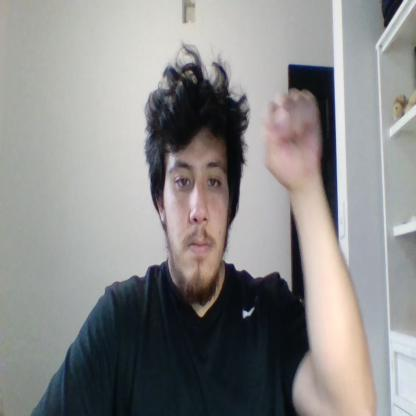S: (263, 89, 321, 189)
